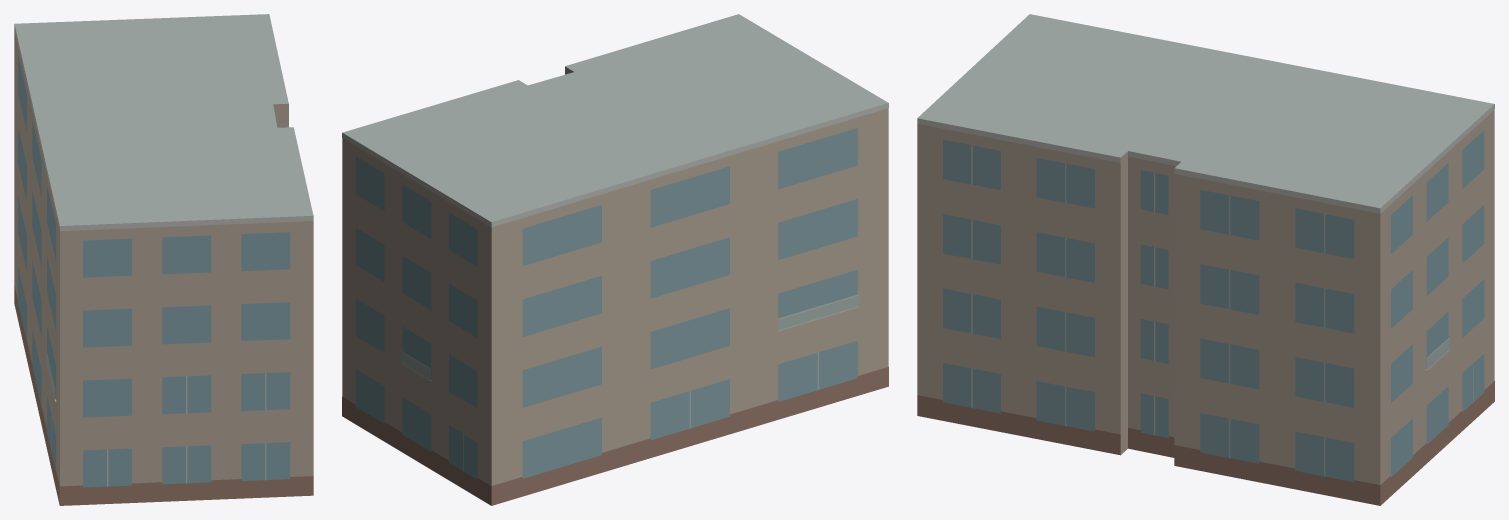
File: survey-upis-32670545.glb
The picture shows the model from 3 angles, left to right: view 1: azimuth 30°, elevation 25°; view 2: azimuth 150°, elevation 25°; view 3: azimuth 270°, elevation 25°; orthographic projection. The views are drawn at different scales.
Visible parts, largest first — view 1: survey-upis-32670545.tmp; view 2: survey-upis-32670545.tmp; view 3: survey-upis-32670545.tmp.
Boxes of the visible parts, x1=… form: survey-upis-32670545.tmp: x1=14, y1=14, x2=313, y2=505; survey-upis-32670545.tmp: x1=342, y1=14, x2=888, y2=505; survey-upis-32670545.tmp: x1=917, y1=14, x2=1494, y2=505.
Size of the model in its own units: 18.36 by 13.11 by 23.07.
